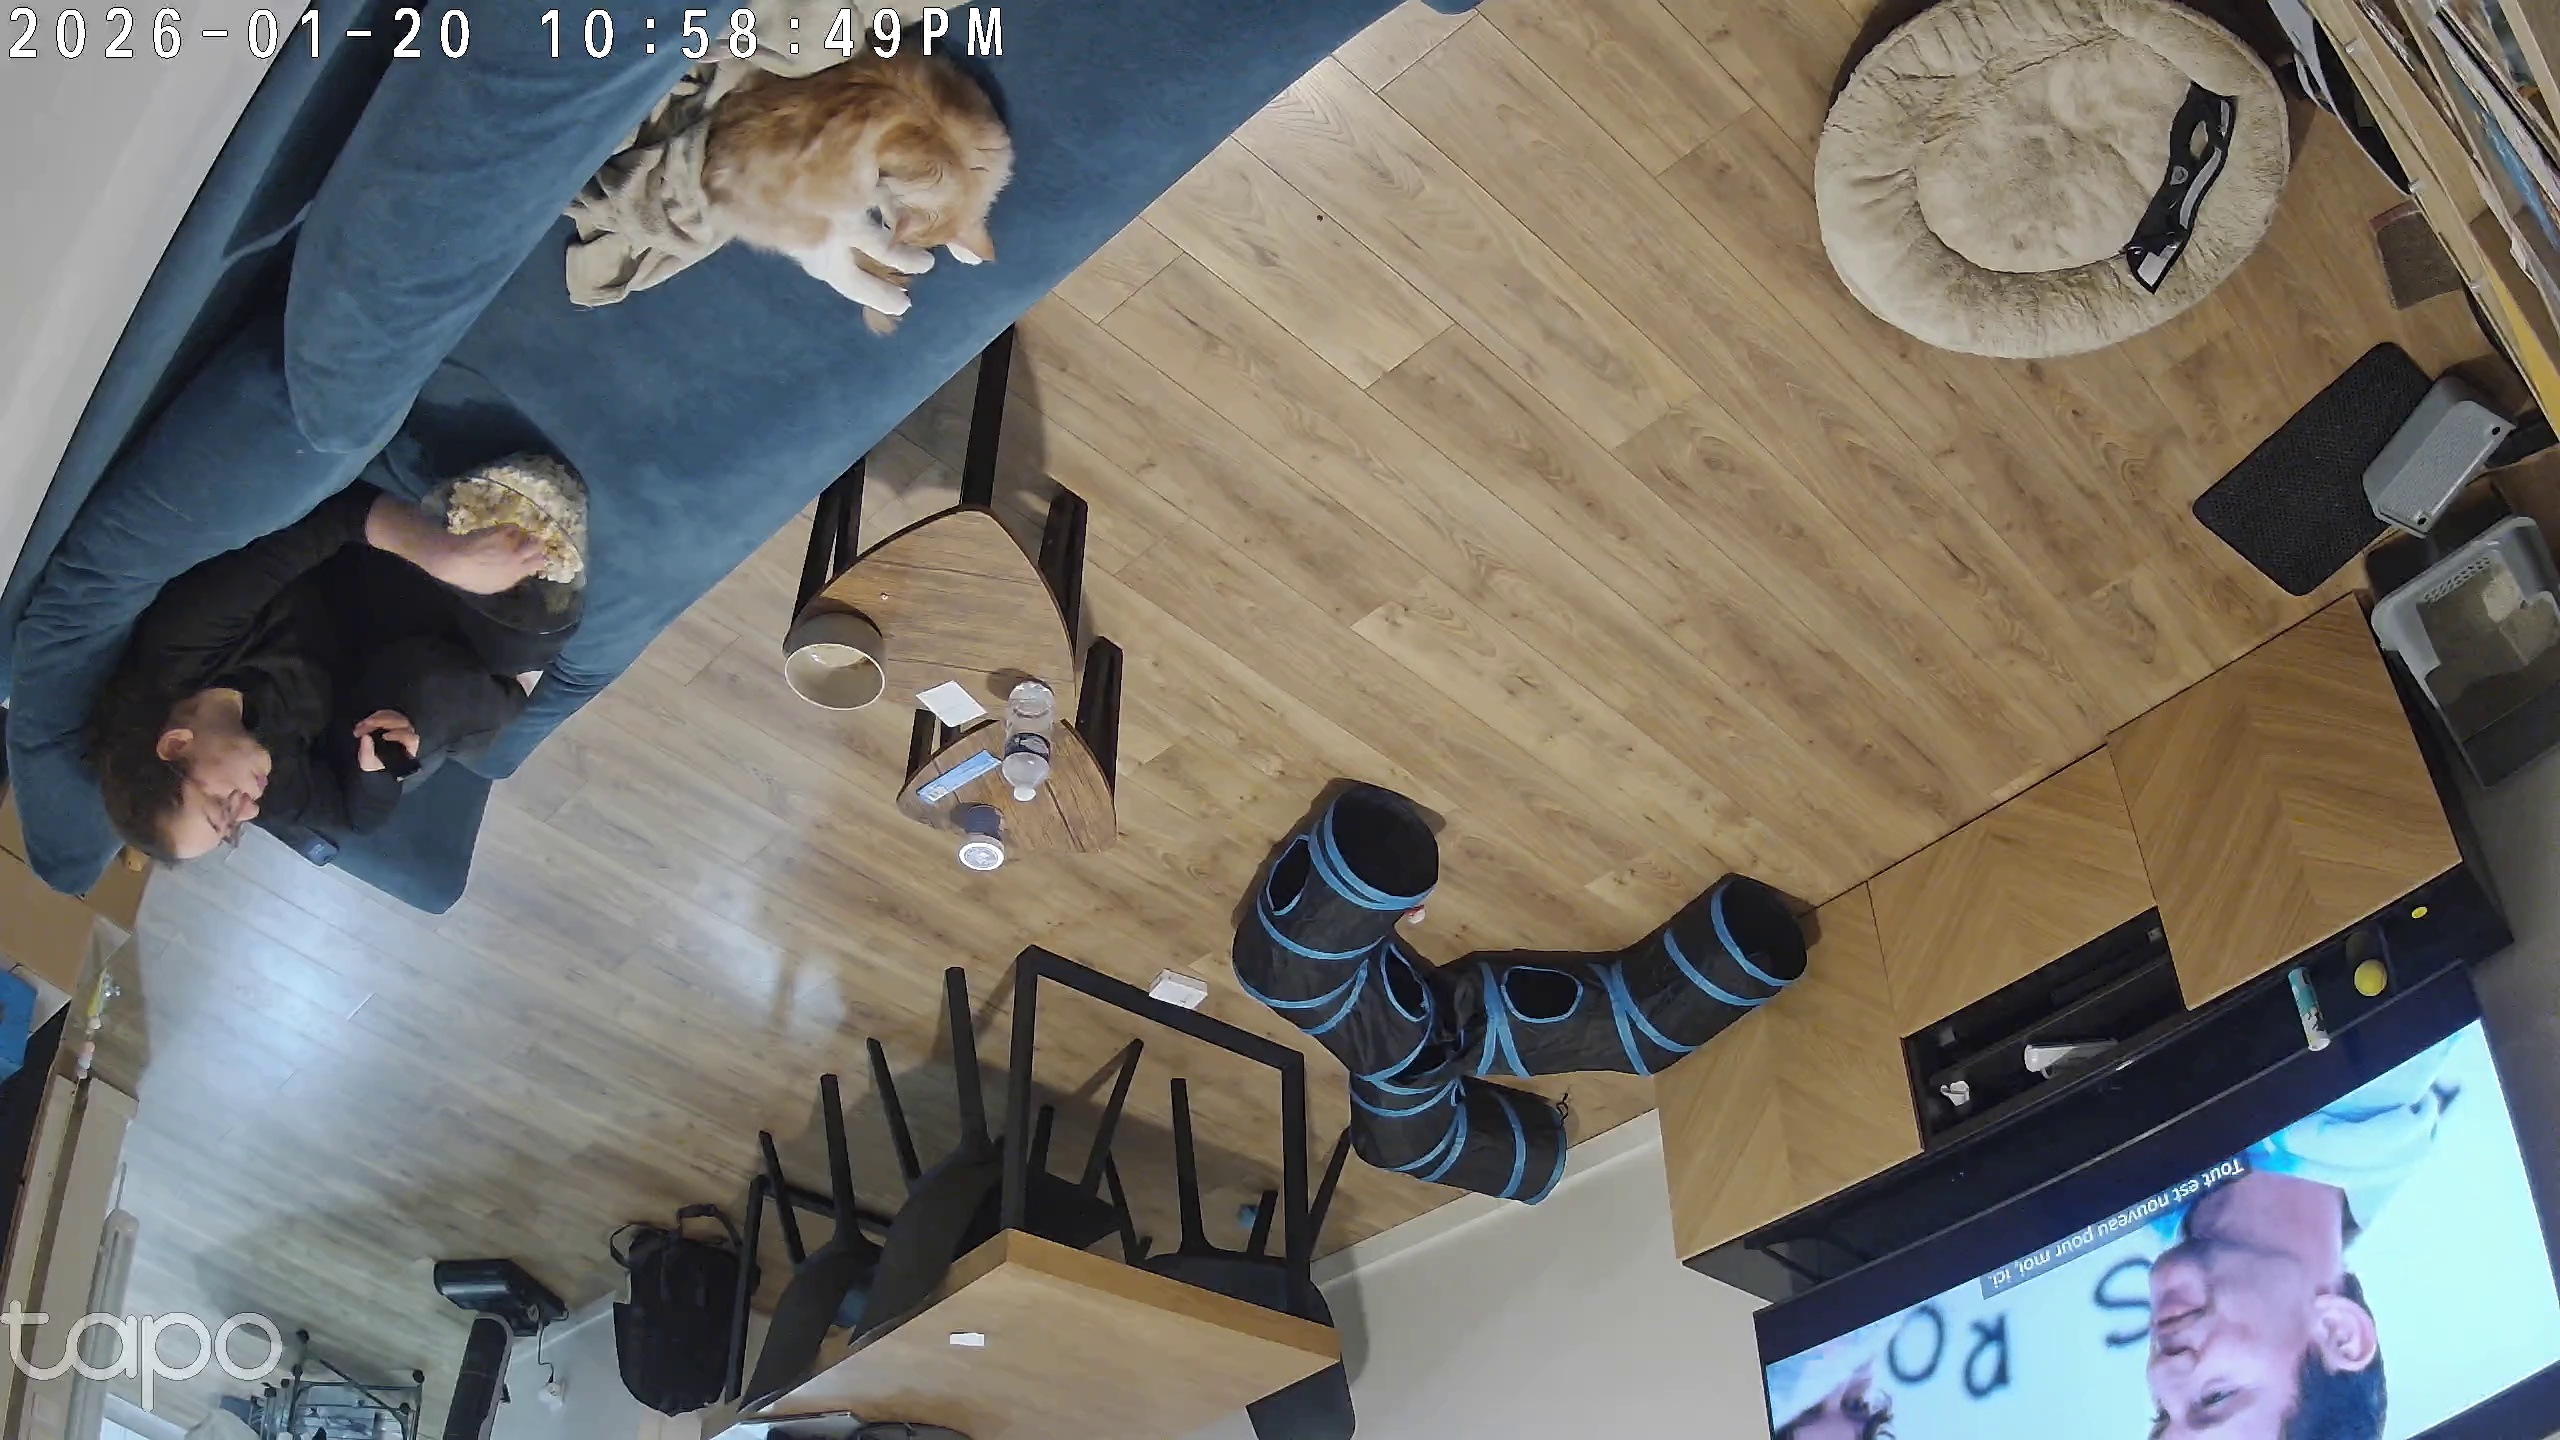Simba: (666, 42, 1018, 336)
